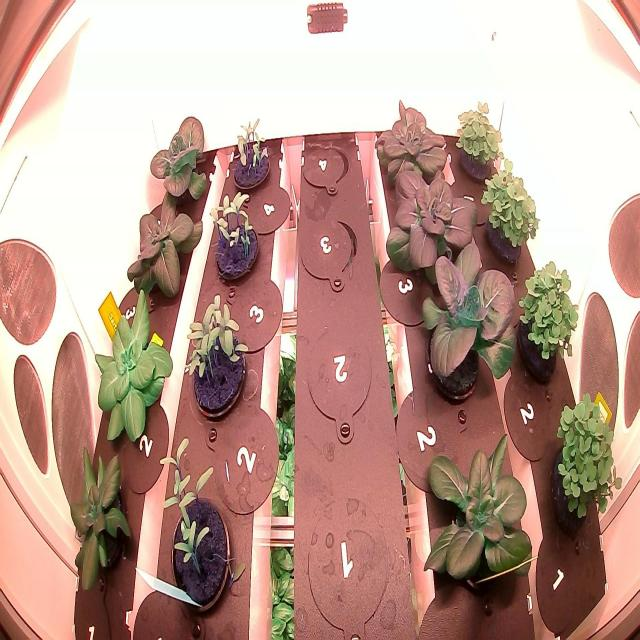empty_pod: (300, 485, 400, 639), (298, 313, 380, 449), (293, 208, 366, 298), (296, 133, 354, 208)
germination: (206, 184, 266, 288), (227, 109, 274, 198)
young: (413, 427, 550, 616), (413, 231, 525, 413), (86, 279, 180, 456), (378, 151, 486, 283), (62, 436, 142, 607), (122, 178, 211, 306), (368, 87, 456, 199), (140, 98, 216, 214)
